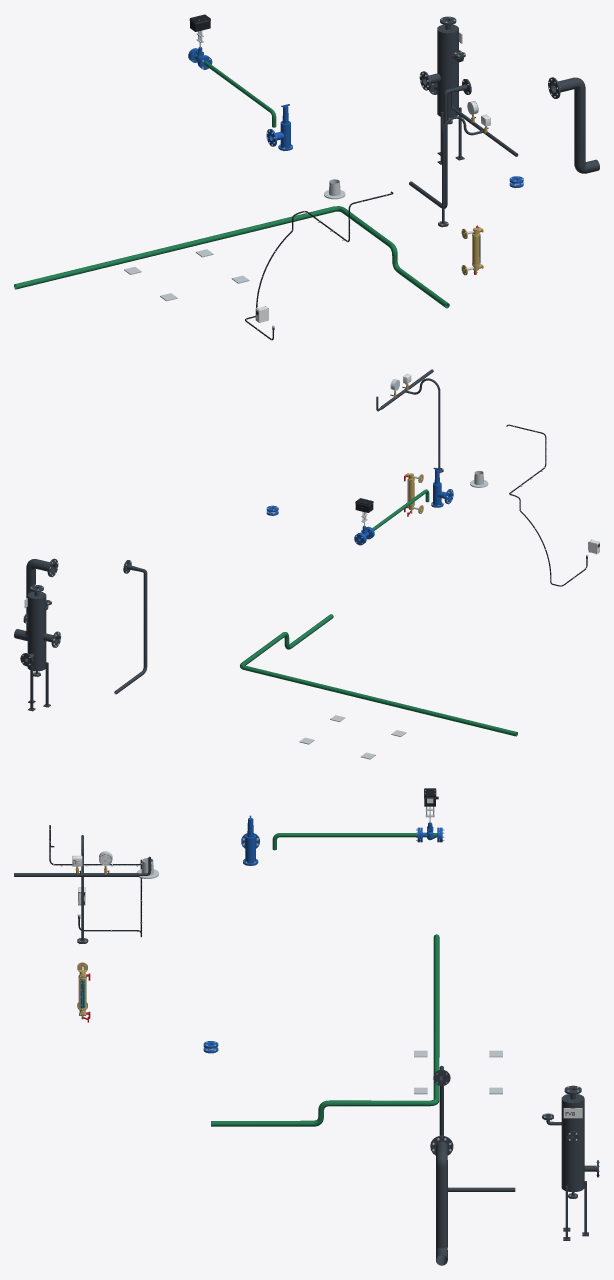
3 views of the same model, one above another, from view 1: azimuth 30°, elevation 25°; view 2: azimuth 150°, elevation 25°; view 3: azimuth 270°, elevation 25° (orthographic). The views are drawn at different scales.
Visible parts, largest first — view 1: suction_common / green, separator_fv8 / dark, bdv_water_drain / dark, pressure_header / dark, bottom_to_bdv / dark, safety_2 / blue, wiring_lcs600 / black, sight_glasses_1 / sight_glasses_1_0.npz, direct_inlet / green; view 2: separator_fv8 / dark, suction_common / green, bottom_to_bdv / dark, bdv_water_drain / dark, pressure_header / dark; view 3: separator_fv8 / dark, suction_common / green, bdv_water_drain / dark, pressure_header / dark, bottom_to_bdv / dark, direct_inlet / green.
Part boxes in pixels (box(x1,y1,x2,y2)): suction_common / green: box(14, 206, 449, 308); separator_fv8 / dark: box(419, 16, 465, 164); bdv_water_drain / dark: box(548, 77, 599, 173); pressure_header / dark: box(438, 90, 518, 226); bottom_to_bdv / dark: box(409, 79, 471, 208); safety_2 / blue: box(266, 104, 292, 150); wiring_lcs600 / black: box(245, 191, 393, 340); sight_glasses_1 / sight_glasses_1_0.npz: box(461, 225, 483, 275); direct_inlet / green: box(204, 61, 276, 127); separator_fv8 / dark: box(20, 585, 61, 711); suction_common / green: box(240, 614, 517, 736); bottom_to_bdv / dark: box(114, 560, 147, 694); bdv_water_drain / dark: box(14, 558, 58, 640); pressure_header / dark: box(376, 369, 443, 472); separator_fv8 / dark: box(542, 1085, 598, 1240); suction_common / green: box(211, 934, 439, 1126); bdv_water_drain / dark: box(430, 1135, 453, 1265); pressure_header / dark: box(14, 835, 151, 943); bottom_to_bdv / dark: box(433, 1065, 515, 1191); direct_inlet / green: box(272, 833, 417, 850).
Size of the model in its own units: 6.75 by 2.96 by 5.58.
